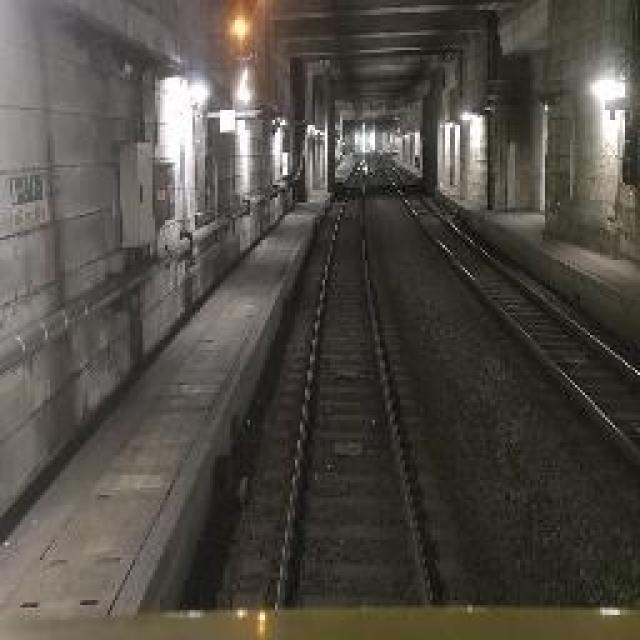rail: (232, 146, 467, 615)
